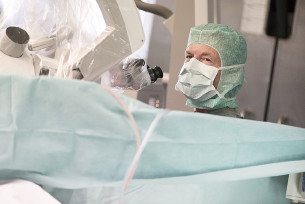face_mask: (177, 38, 221, 100)
